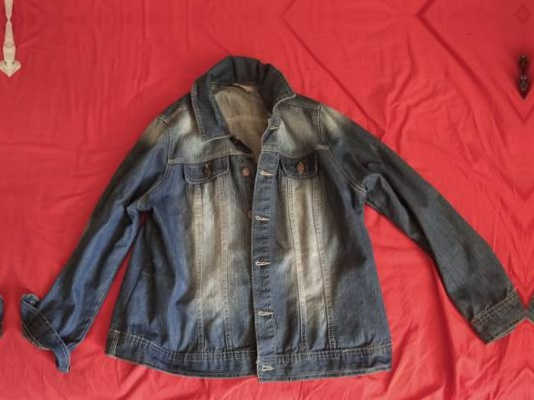Blazer: (20, 48, 510, 377), (0, 54, 1, 383)
